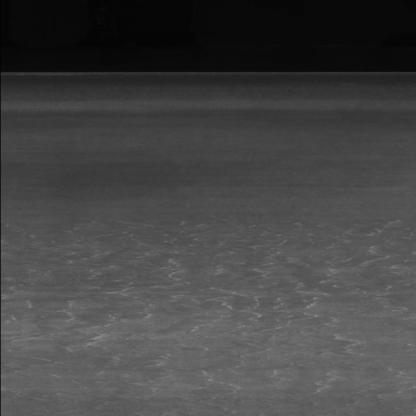silk_spot: (21, 227, 197, 403), (172, 249, 302, 392), (286, 212, 398, 312), (297, 300, 378, 386)
